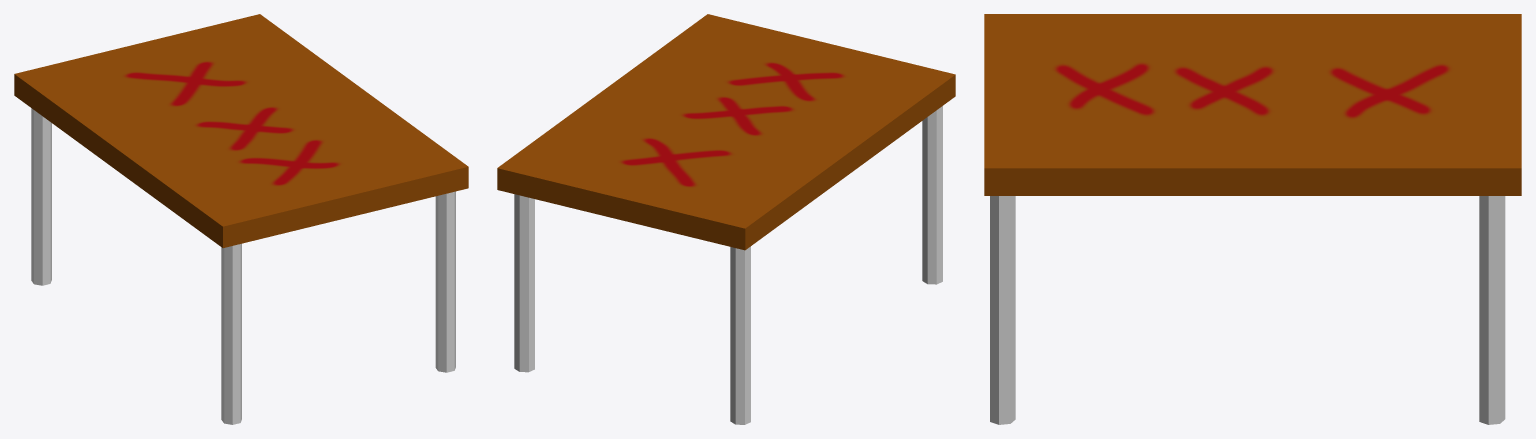
File: Table.fbx
3 renders of one model, left to right at view 1: azimuth 30°, elevation 25°; view 2: azimuth 150°, elevation 25°; view 3: azimuth 270°, elevation 25°, orthographic. The views are drawn at different scales.
Parts seen in each view (by area): view 1: Cube, Cylinder.004; view 2: Cube, Cylinder.004; view 3: Cube, Cylinder.004.
Part boxes in pixels (x1,y1,x2,y2): Cube: (14,14,468,247); Cylinder.004: (31,108,455,424); Cube: (497,14,955,250); Cylinder.004: (514,106,942,424); Cube: (984,14,1521,195); Cylinder.004: (990,196,1505,424).
Bounding box in the file's own units: 597 × 471 × 878.
